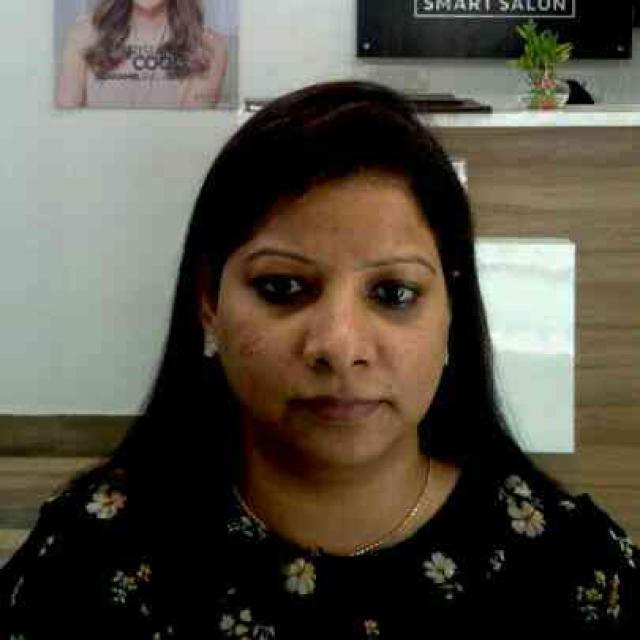puffy_eyes: (255, 280, 322, 312), (357, 293, 418, 321)
